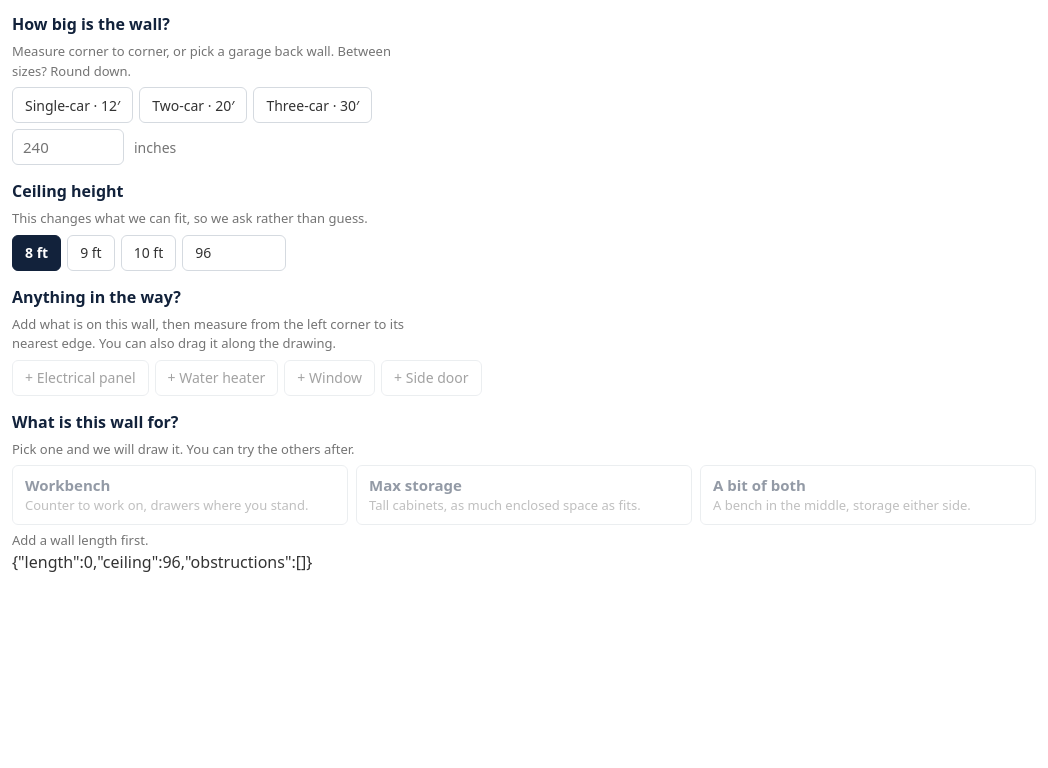
Test: WallInputs › says when an obstruction runs past the end of the wall and holds the layouts back
In the number field named "wall length in inches": (68, 147) x1=12 y1=129 x2=124 y2=165, type "120"
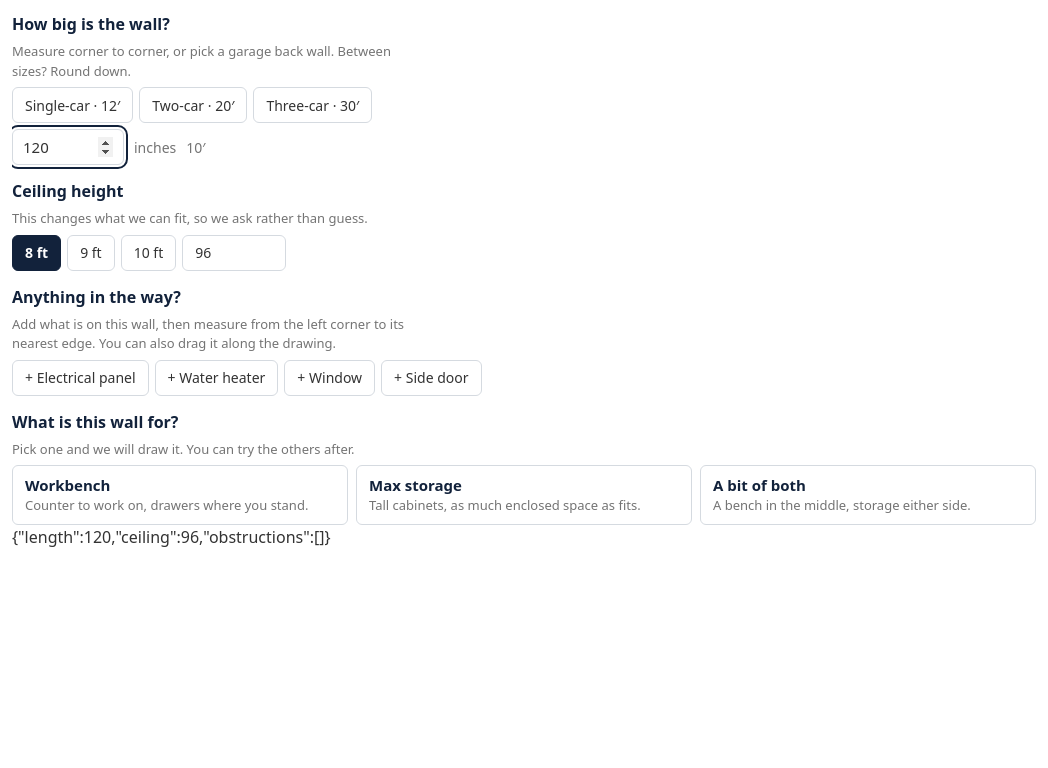
Click the button with aria-label "add window": (330, 378) x1=284 y1=360 x2=375 y2=396
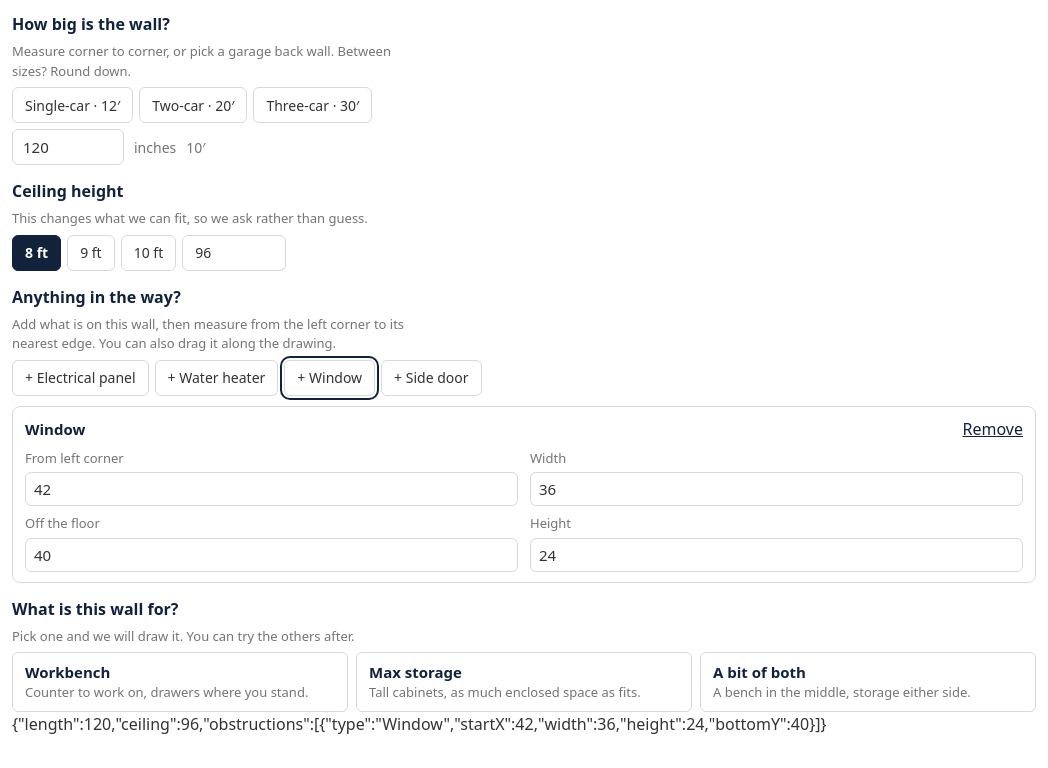
Replace the text in the number field named "window from left corner" with "100": (272, 489) x1=25 y1=472 x2=518 y2=506
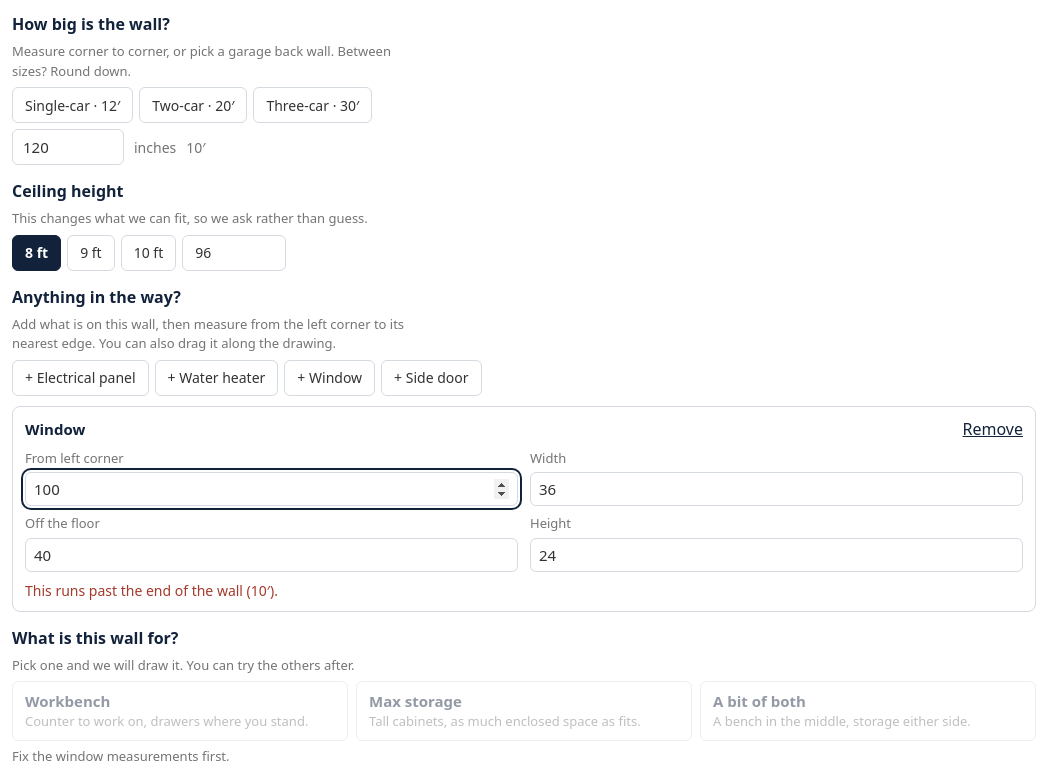
expect the text "This runs past the end of the wall (10′)." is shown: met, box x1=25 y1=580 x2=278 y2=600
expect the button "Max storage Tall cabinets, as much enclosed space as fits." is disabled: met, box x1=356 y1=681 x2=692 y2=740
